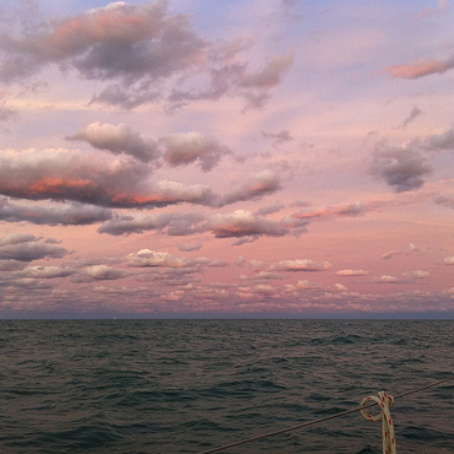sea: (1, 320, 449, 454)
sky: (1, 2, 454, 312)
